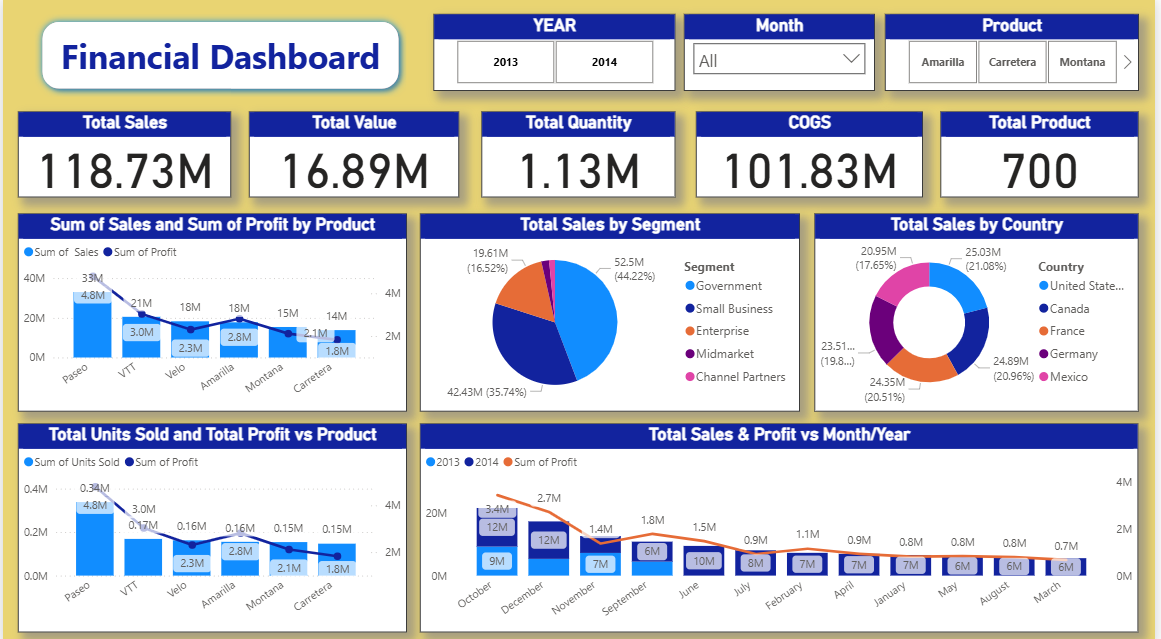

What the dashboard file says about the page in this screenshot:
{"tool":"powerbi","page":{"name":"Page 1","canvas":[1280,720],"ordinal":0},"visuals":[{"type":"slicer","title":"YEAR","fields":{"Values":["financials.Year"]},"box":[478.3,16.7,268.3,85],"z":0},{"type":"slicer","title":"Month","fields":{"Values":["financials.Month Name"]},"box":[756.7,16.7,211.7,85],"z":1000},{"type":"slicer","title":"Product","fields":{"Values":["financials.Product"]},"box":[980,16.7,281.7,85],"z":2000},{"type":"card","title":"Total Sales","fields":{"Values":["Sum(financials. Sales)"]},"box":[16.7,125,236.7,95],"z":3000},{"type":"card","title":"Total Value","fields":{"Values":["Sum(financials.Profit)"]},"box":[273.3,125,233.3,95],"z":4000},{"type":"card","title":"Total Quantity","fields":{"Values":["Sum(financials.Units Sold)"]},"box":[531.7,125,215,95],"z":5000},{"type":"card","title":"COGS","fields":{"Values":["Sum(financials.COGS)"]},"box":[770,125,251.7,95],"z":6000},{"type":"card","title":"Total Product","fields":{"Values":["CountNonNull(financials.Product)"]},"box":[1041.7,125,220,95],"z":7000},{"type":"lineStackedColumnComboChart","fields":{"Category":["financials.Product"],"Y":["Sum(financials. Sales)"],"Y2":["Sum(financials.Profit)"]},"box":[16,238,432,220],"z":8000},{"type":"pieChart","title":"Total Sales by Segment","fields":{"Category":["financials.Segment"],"Y":["Sum(financials. Sales)"]},"box":[464,238,422,220],"z":9000},{"type":"donutChart","title":"Total Sales by Country","fields":{"Category":["financials.Country"],"Y":["Sum(financials. Sales)"]},"box":[902,238,360,220],"z":10000},{"type":"lineStackedColumnComboChart","title":"Total Units Sold and Total Profit vs Product","fields":{"Category":["financials.Product"],"Y":["Sum(financials.Units Sold)"],"Y2":["Sum(financials.Profit)"]},"box":[16,472,432,232],"z":11000},{"type":"lineStackedColumnComboChart","title":"Total Sales & Profit vs Month/Year","fields":{"Category":["financials.Month Name"],"Y":["Sum(financials. Sales)"],"Y2":["Sum(financials.Profit)"],"Series":["financials.Year"]},"box":[464,472,798,232],"z":12000},{"type":"shape","box":[35,16.7,413.3,91.7],"z":12001}]}

Visuals, with their boxes in screenshot pixels (x1, y1, x2, y2), scaled from the page's 1280x720 canvas onto the 1161x639 screenshot:
"YEAR" slicer: x1=434 y1=15 x2=677 y2=90
"Month" slicer: x1=686 y1=15 x2=878 y2=90
"Product" slicer: x1=889 y1=15 x2=1144 y2=90
"Total Sales" card: x1=15 y1=111 x2=230 y2=195
"Total Value" card: x1=248 y1=111 x2=460 y2=195
"Total Quantity" card: x1=482 y1=111 x2=677 y2=195
"COGS" card: x1=698 y1=111 x2=927 y2=195
"Total Product" card: x1=945 y1=111 x2=1144 y2=195
lineStackedColumnComboChart - financials.Product x Sum(financials. Sales): x1=15 y1=211 x2=406 y2=406
"Total Sales by Segment" pieChart: x1=421 y1=211 x2=804 y2=406
"Total Sales by Country" donutChart: x1=818 y1=211 x2=1145 y2=406
"Total Units Sold and Total Profit vs Product" lineStackedColumnComboChart: x1=15 y1=419 x2=406 y2=625
"Total Sales & Profit vs Month/Year" lineStackedColumnComboChart: x1=421 y1=419 x2=1145 y2=625
shape: x1=32 y1=15 x2=407 y2=96
